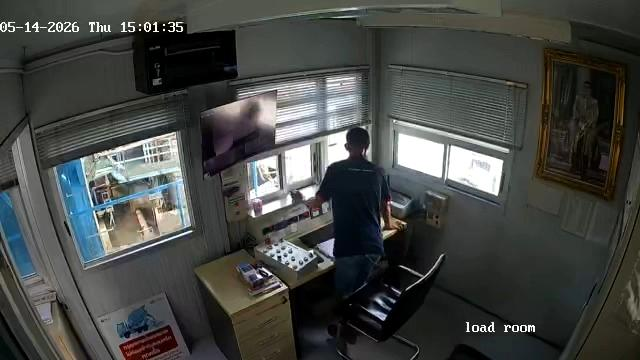Head: (339, 128, 372, 162)
People: (313, 119, 409, 331)
